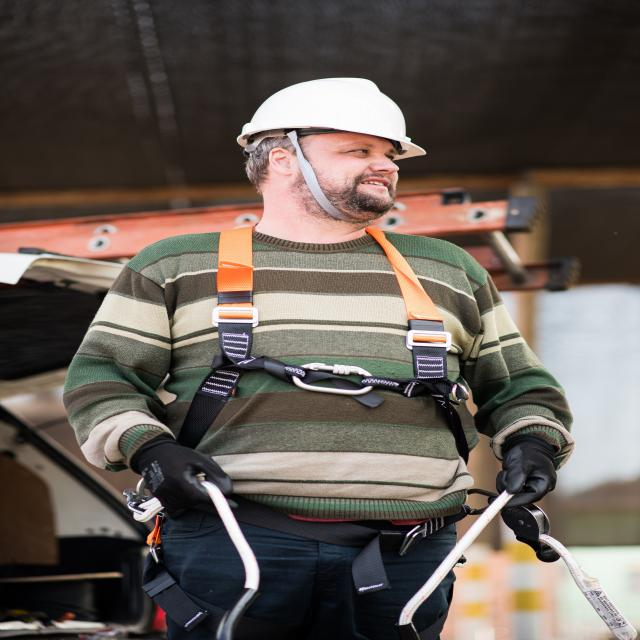capacete: (233, 74, 430, 164)
corda de vida: (143, 219, 521, 640)
luva: (120, 431, 247, 524), (495, 434, 563, 512)
